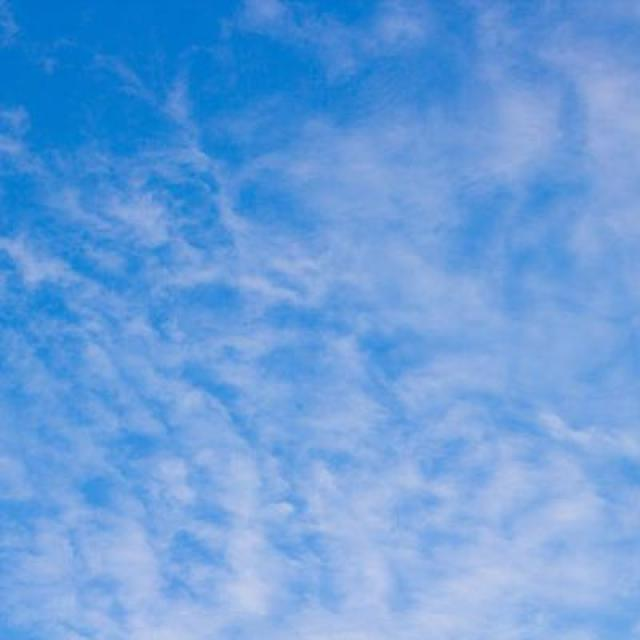Cc: (2, 85, 640, 639)
